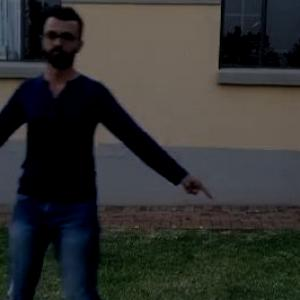land: (1, 20, 209, 299)
